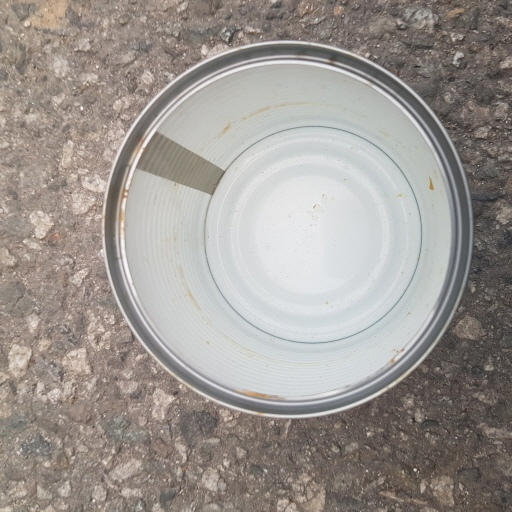Metal_1: (101, 39, 475, 420)
